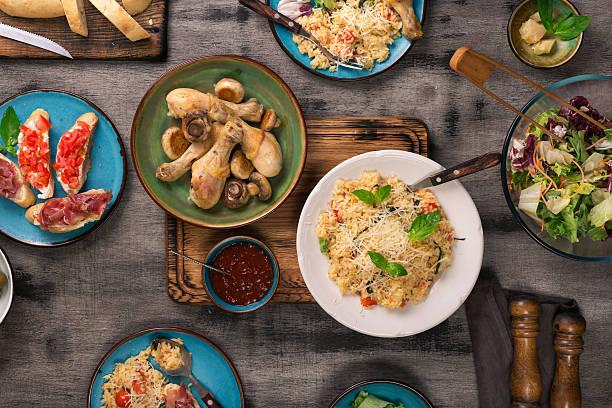Braised Crucian Carp: (294, 148, 478, 336), (130, 52, 309, 230), (0, 83, 127, 250), (499, 72, 609, 262), (270, 0, 419, 79)
